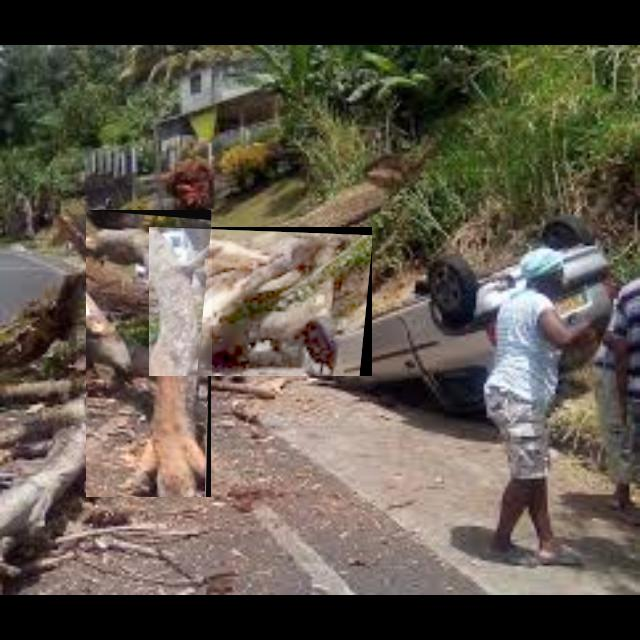Fallen Tree: (86, 210, 212, 498), (149, 227, 373, 377)
